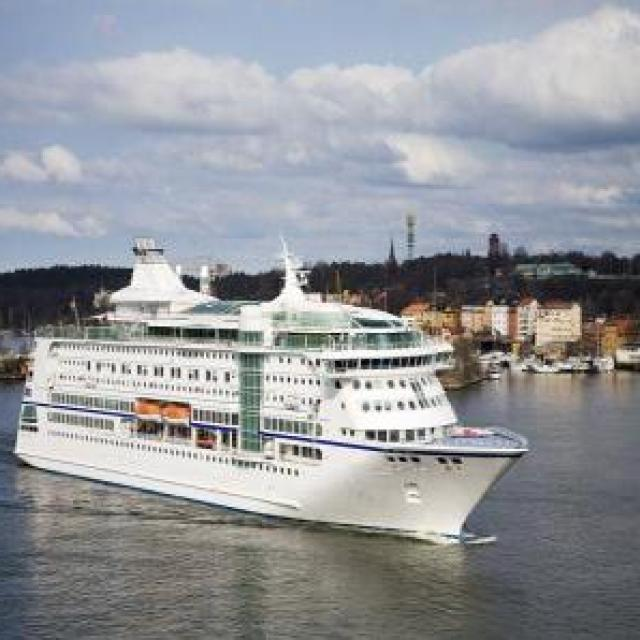passenger ship: (12, 246, 535, 534)
